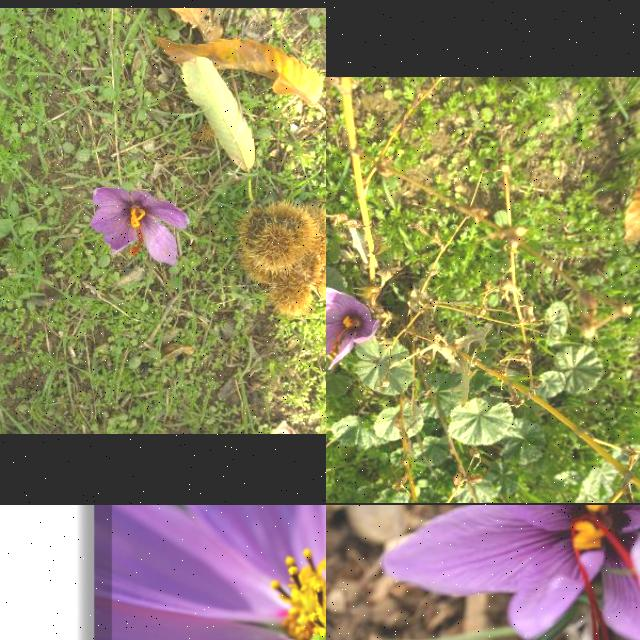flower: (379, 505, 640, 640), (90, 187, 190, 267), (326, 287, 381, 371)
